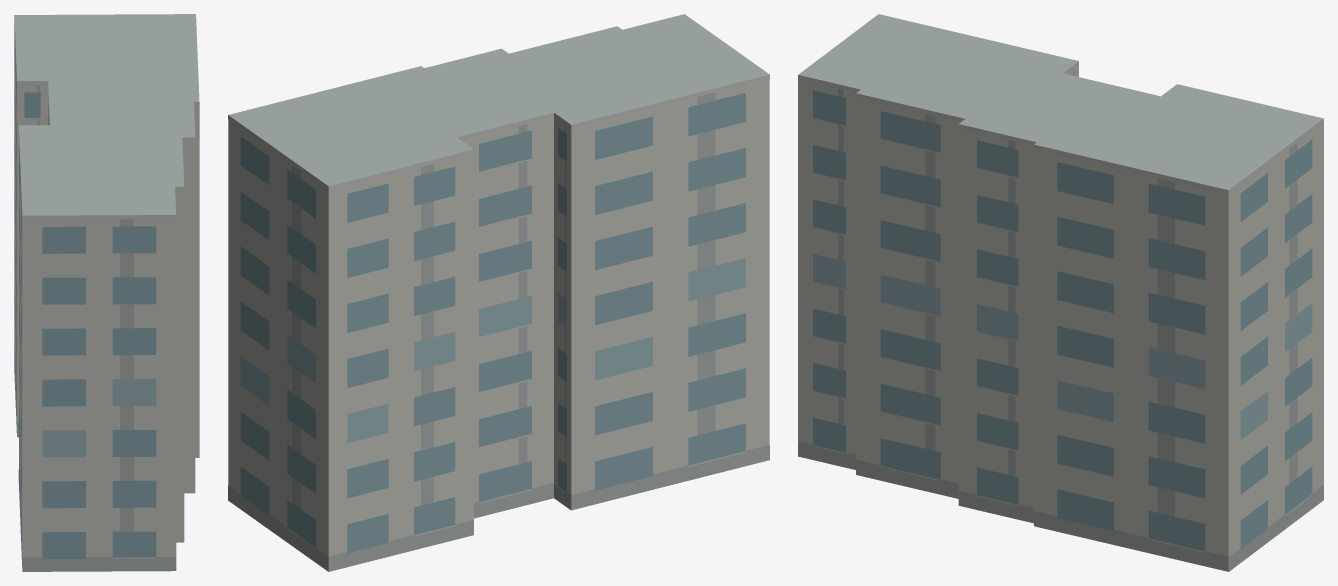
The model's file is survey-upis-33001823.glb.
3 views of the same model, side by side, from view 1: azimuth 30°, elevation 25°; view 2: azimuth 150°, elevation 25°; view 3: azimuth 270°, elevation 25° (orthographic). The views are drawn at different scales.
Visible parts, largest first — view 1: survey-upis-33001823.tmp; view 2: survey-upis-33001823.tmp; view 3: survey-upis-33001823.tmp.
Boxes of the visible parts, bbox=[...] form: survey-upis-33001823.tmp: bbox=[14, 14, 199, 571]; survey-upis-33001823.tmp: bbox=[228, 14, 769, 571]; survey-upis-33001823.tmp: bbox=[798, 14, 1323, 571].
Size of the model in its own units: 21.05 by 21.25 by 26.53.
